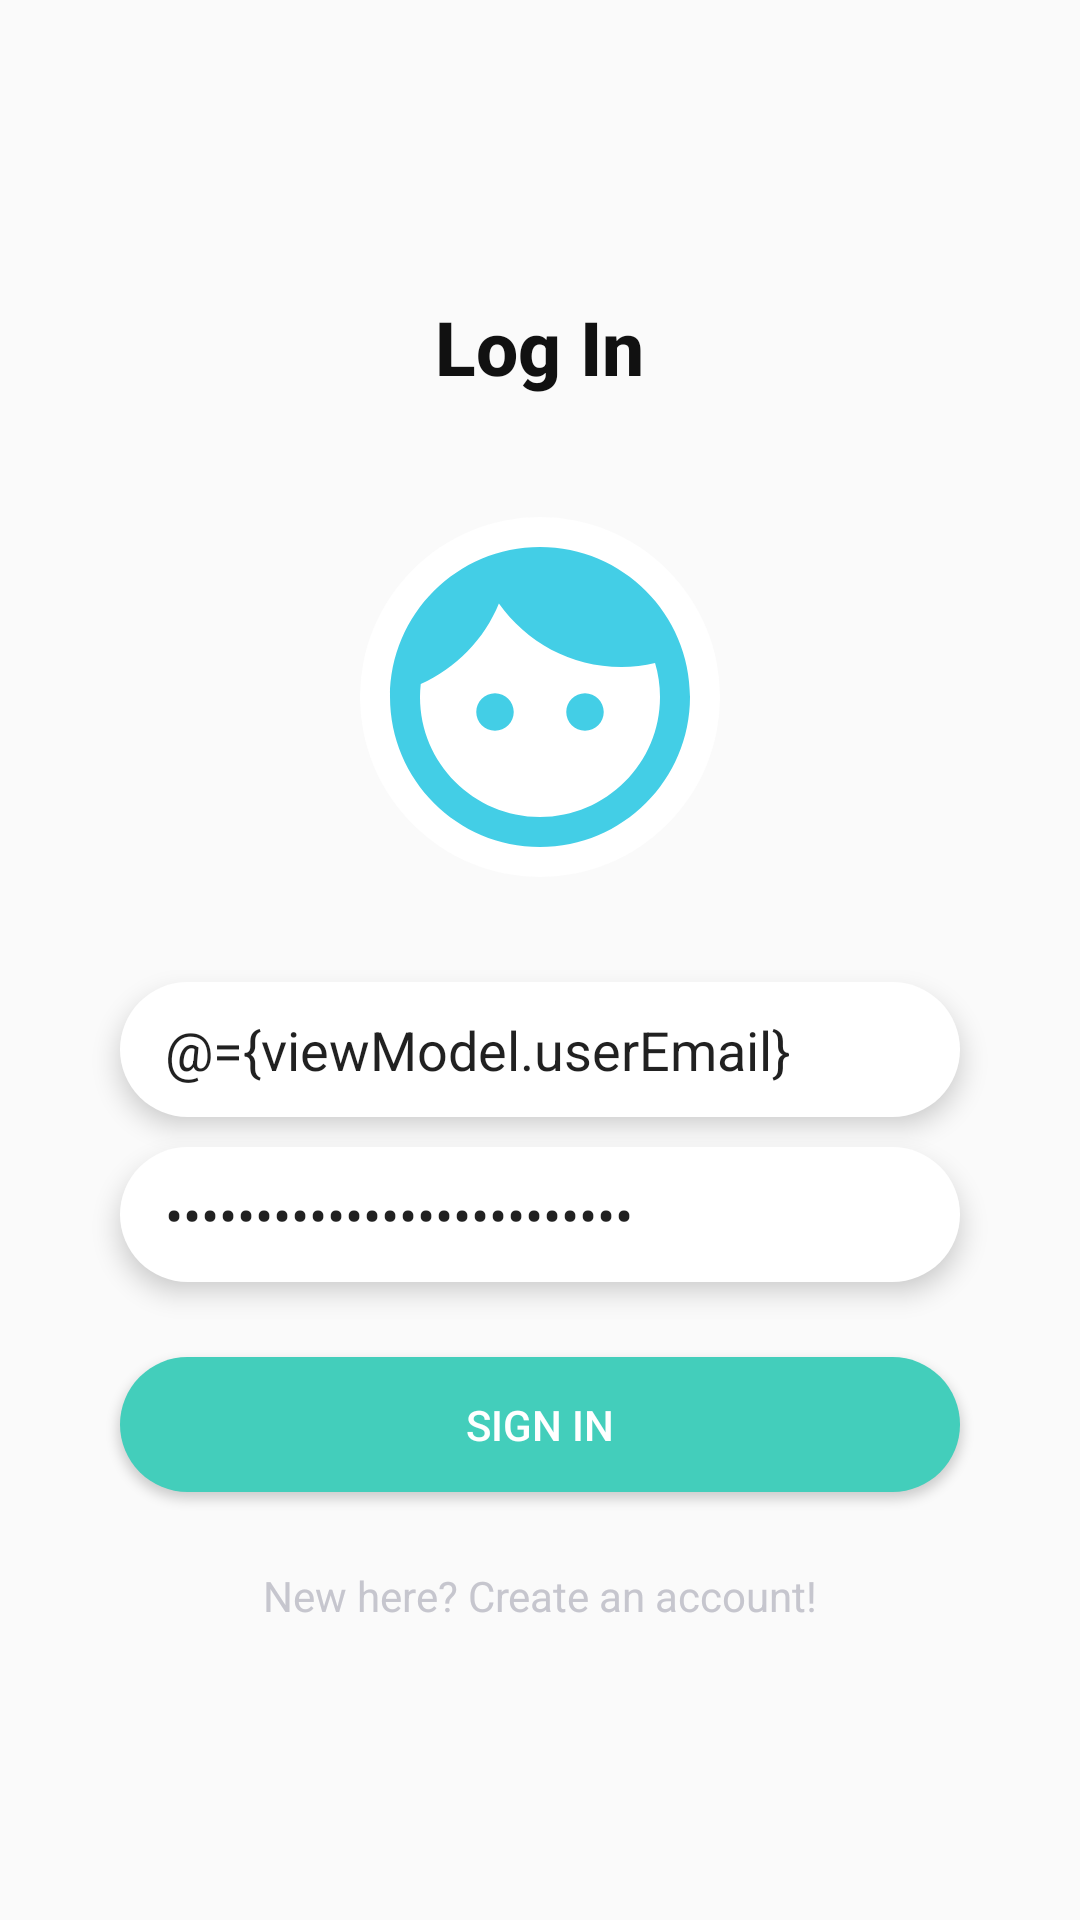

Icon click points for this 1080*1920 phone screenshot, format point (x, y):
face: point (540, 697)
